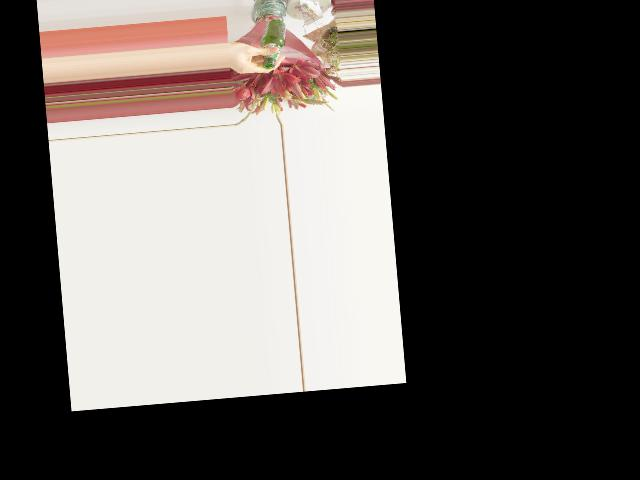beer: (258, 18, 289, 69)
